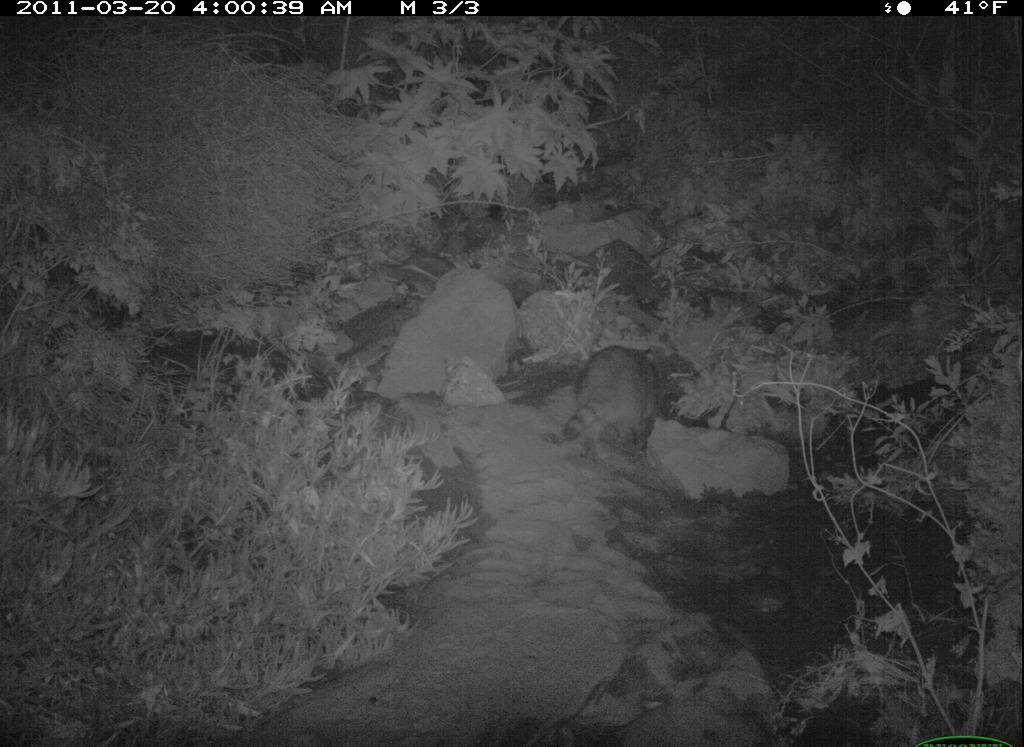raccoon: (552, 306, 685, 479)
